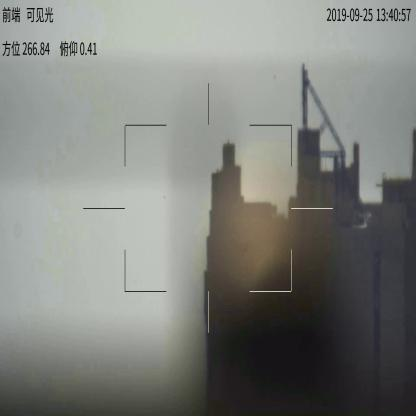uav: (226, 237, 244, 258)
